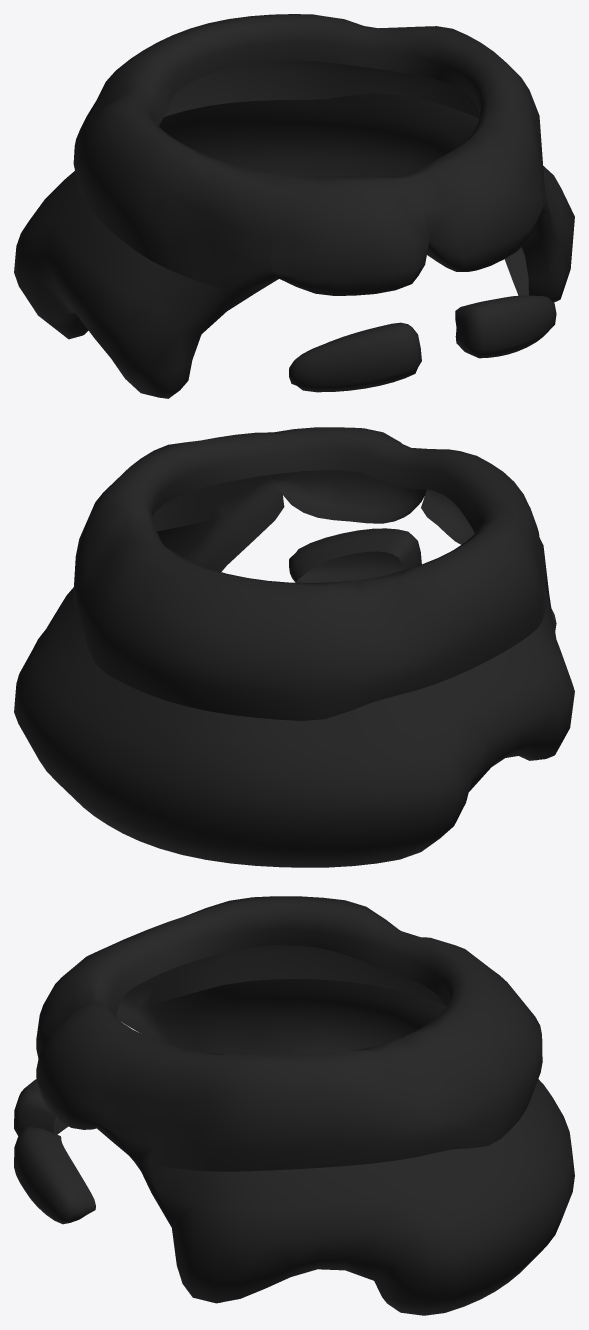
3 views of the same model, one above another, from view 1: azimuth 30°, elevation 25°; view 2: azimuth 150°, elevation 25°; view 3: azimuth 270°, elevation 25° (orthographic).
Parts seen in each view (by area): view 1: 22男发4; view 2: 22男发4; view 3: 22男发4.
Part boxes in pixels (x1=…): 22男发4: x1=14, y1=14, x2=574, y2=398; 22男发4: x1=14, y1=427, x2=574, y2=867; 22男发4: x1=14, y1=896, x2=574, y2=1315.
Bounding box in the file's own units: 0.4485 × 0.2371 × 0.4701.
